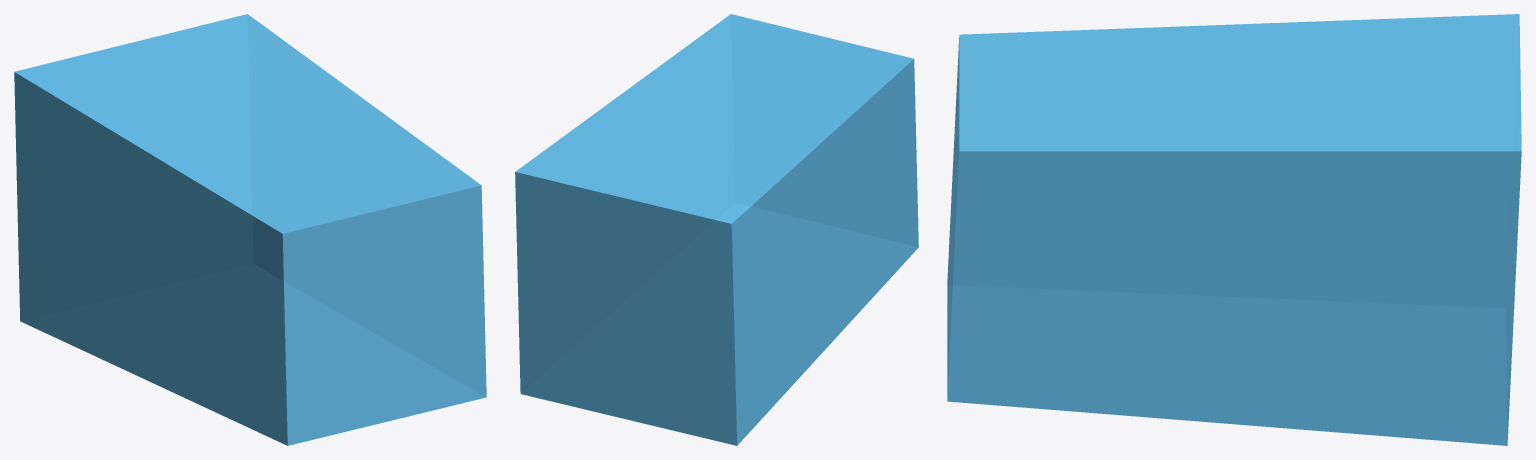
File: Event_421115418_HBrechit_1.fbx
3 views of the same model, side by side, from view 1: azimuth 30°, elevation 25°; view 2: azimuth 150°, elevation 25°; view 3: azimuth 270°, elevation 25° (orthographic). The views are drawn at different scales.
Parts seen in each view (by area): view 1: Model; view 2: Model; view 3: Model.
Boxes of the visible parts, box(x1,y1,x2,y2) form: Model: box(14, 14, 486, 445); Model: box(515, 14, 918, 445); Model: box(947, 14, 1521, 445).
Size of the model in its own units: 0.472 by 0.4725 by 0.8349.
